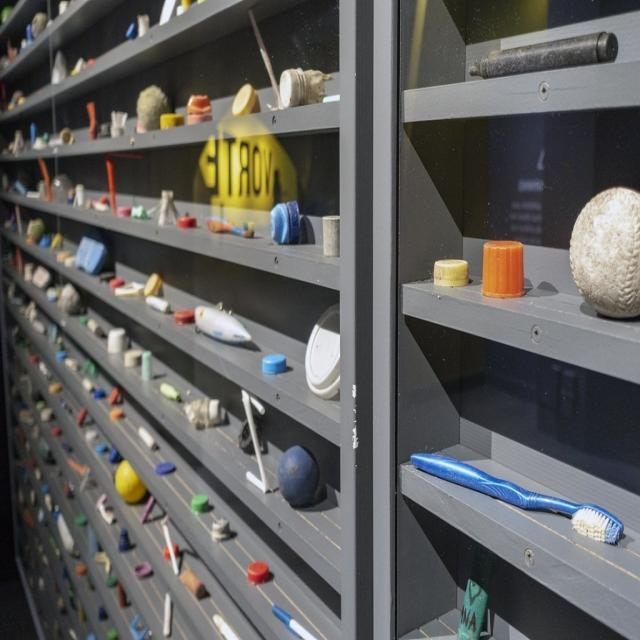Metal: (467, 36, 627, 82)
Plastics: (404, 445, 630, 555), (420, 235, 530, 305)
